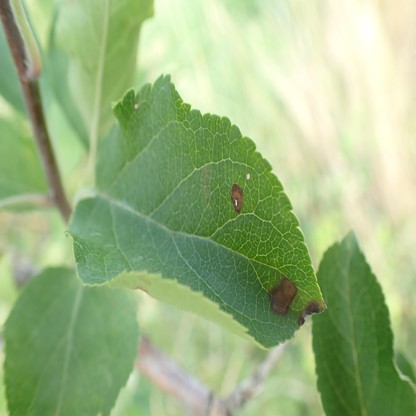frogeye: (231, 182, 242, 215)
